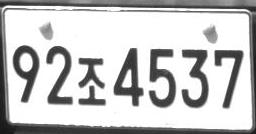2: (45, 45, 73, 105)
3: (180, 49, 209, 109)
4: (114, 47, 144, 107)
5: (147, 48, 177, 107)
7: (213, 49, 244, 109)
9: (11, 44, 40, 103)
조: (77, 57, 106, 106)
